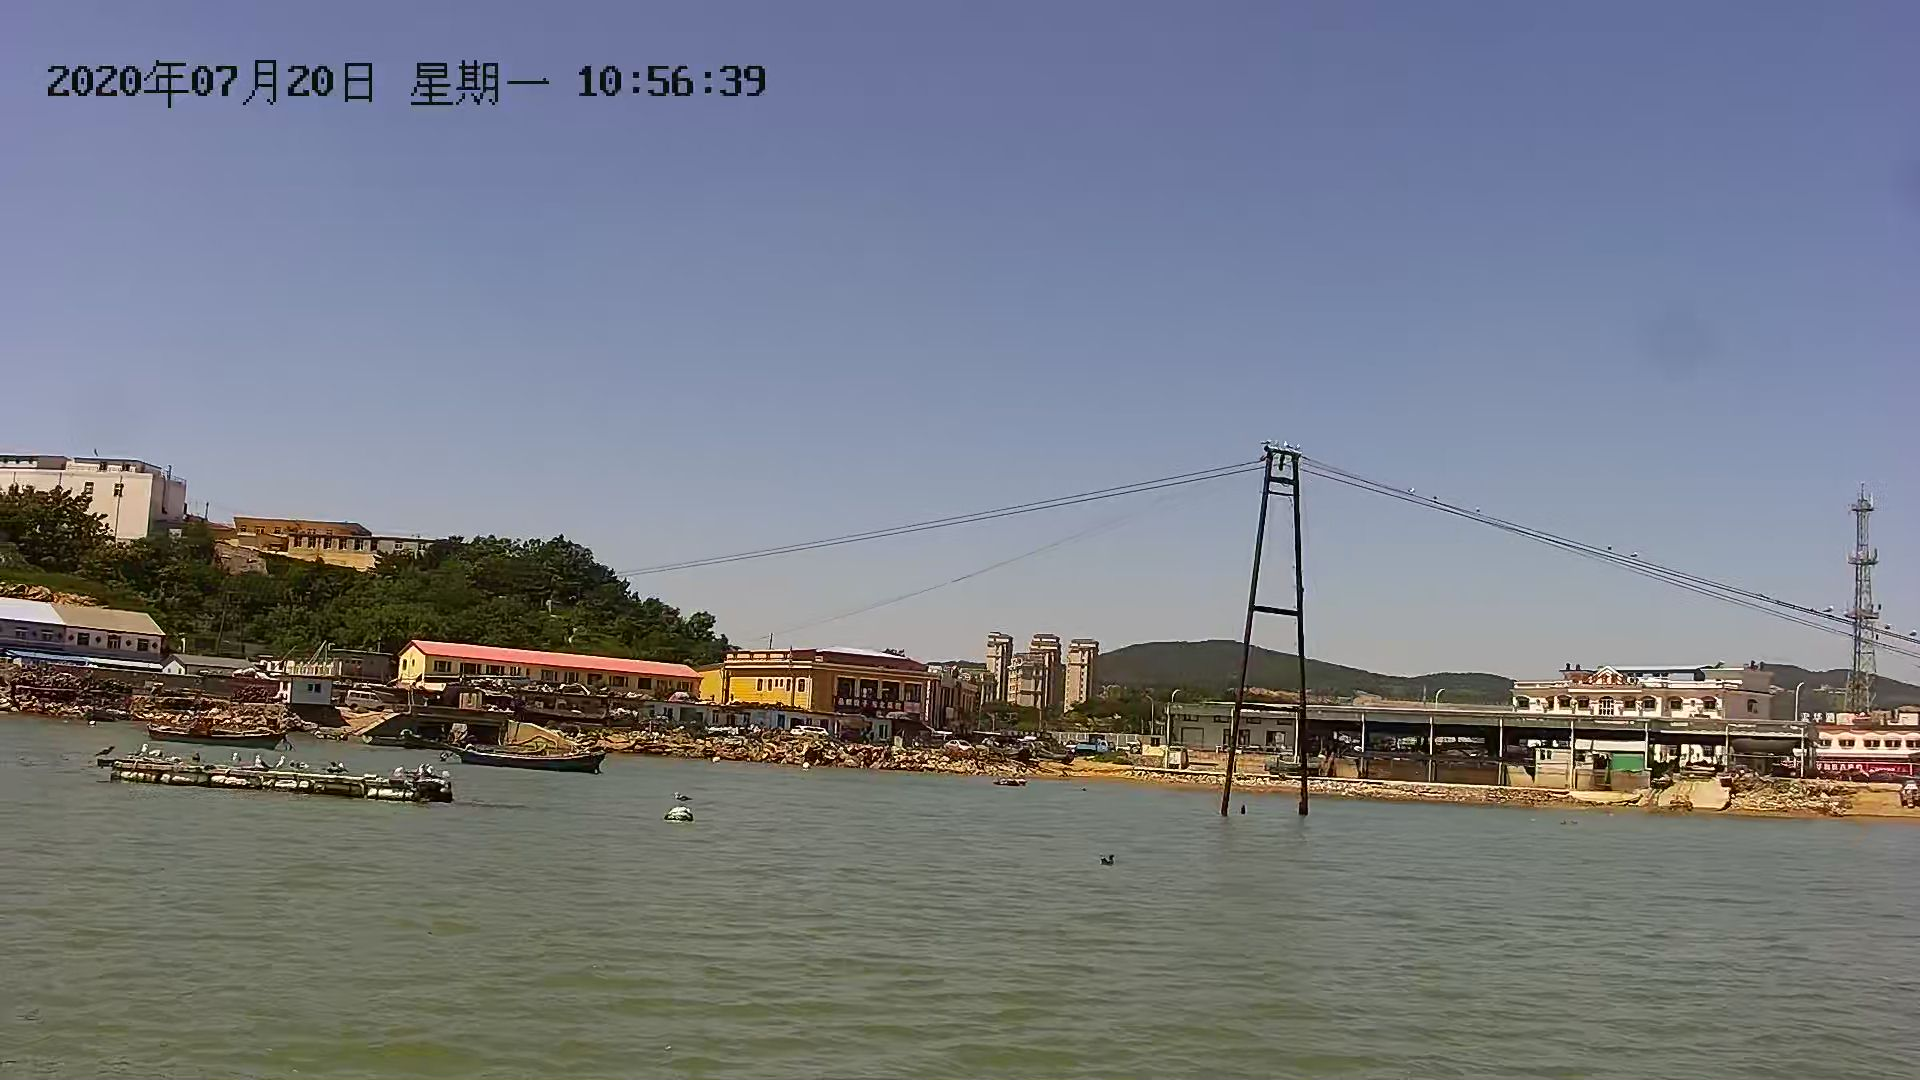animal: (1095, 847, 1120, 868)
boat: (443, 742, 615, 783), (142, 717, 291, 756)
mast: (1220, 436, 1311, 822)
platform: (88, 736, 454, 810)
rubbish: (654, 796, 705, 827), (990, 774, 1029, 789)
